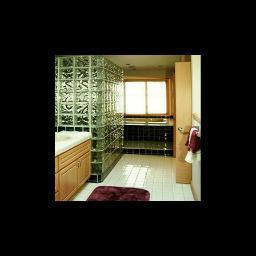Ducha: (92, 70, 121, 180), (127, 120, 172, 155)
Lavamanos: (55, 128, 80, 151)
